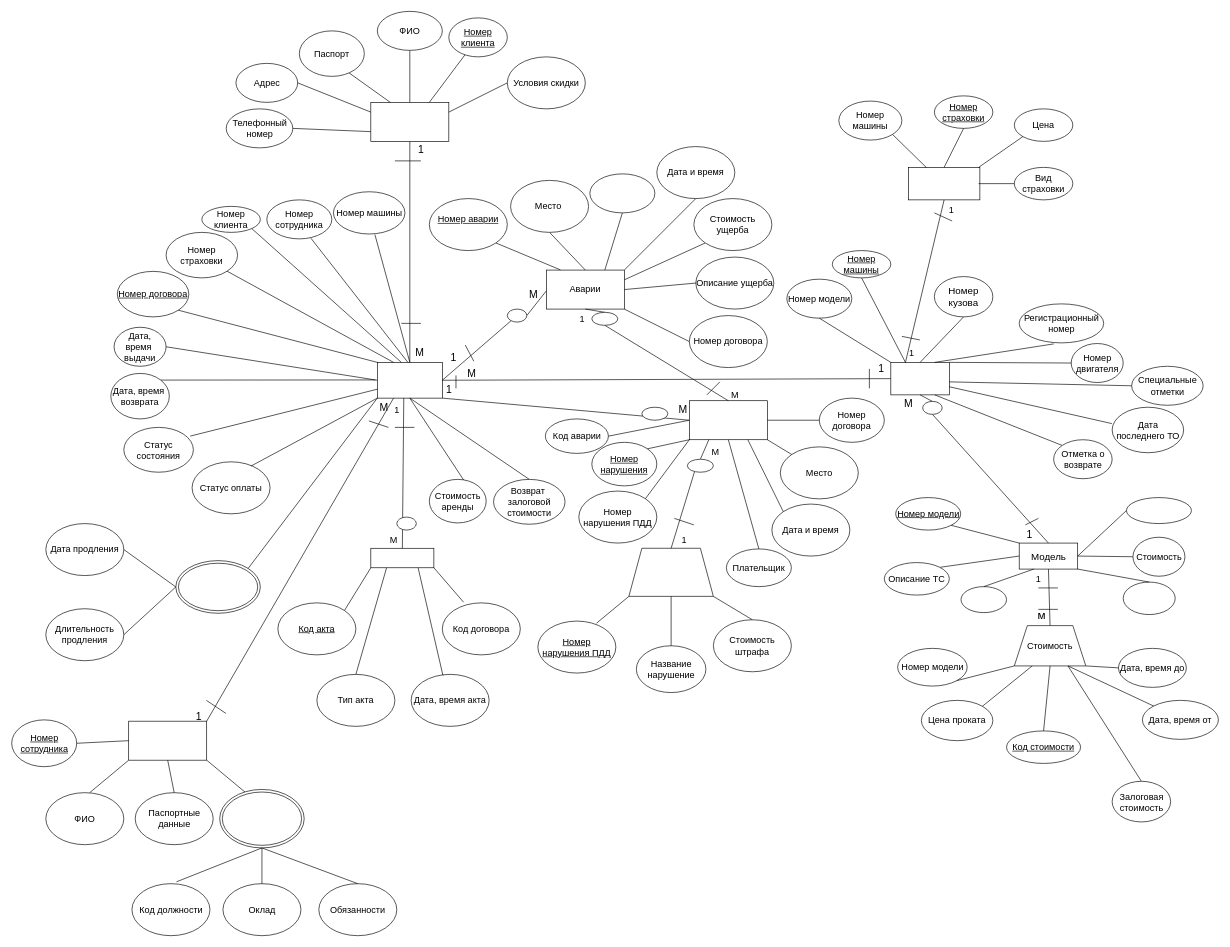
Image size: 1230x947. Some labels were removed from this diagram. Here are the shapes that lost their labels. From the top down, the box of each, then its label:
(370, 102, 449, 141): Клиент
(589, 173, 655, 213): Виновник
(908, 167, 980, 200): Страховка
(377, 362, 442, 398): Договор
(890, 362, 949, 395): Машина
(689, 400, 767, 440): Нарушения
(1126, 497, 1191, 524): Марка автомобиля
(370, 548, 434, 568): Акты
(628, 548, 713, 596): Нарушение ПДД
(175, 560, 260, 613): Продление
(960, 586, 1007, 613): Название
(1123, 581, 1175, 615): Год выпуска
(128, 721, 207, 760): Сотрудник
(219, 789, 304, 848): Должность
